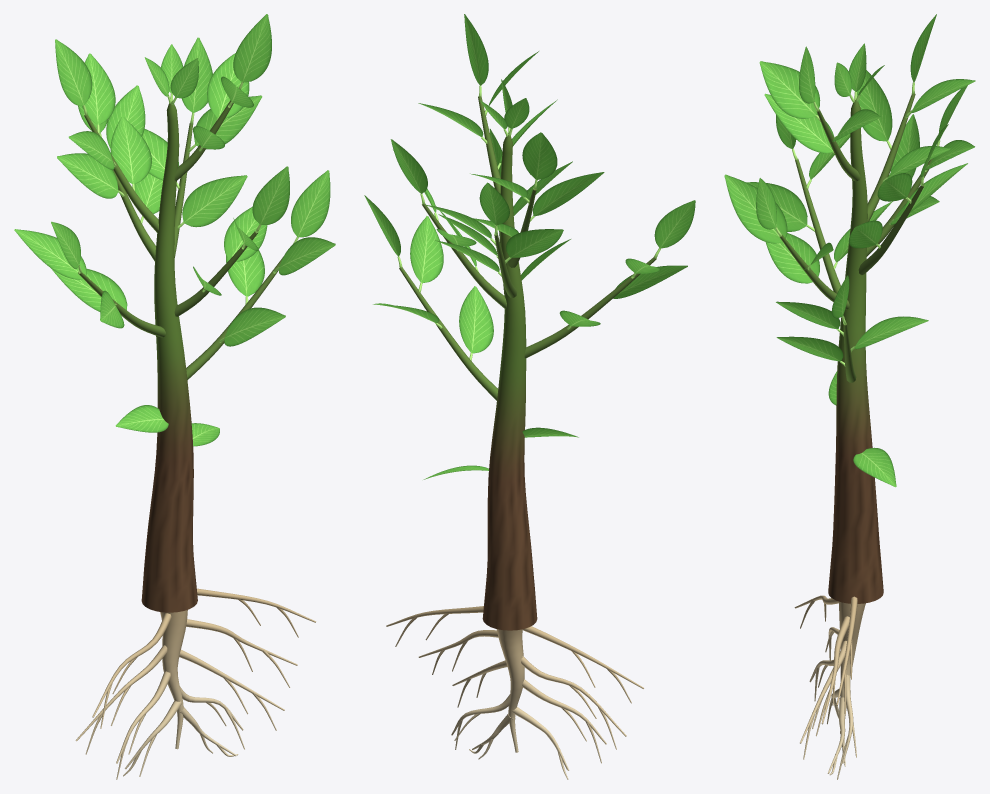
File: 01_plant.glb
3 views of the same model, side by side, from view 1: azimuth 30°, elevation 25°; view 2: azimuth 150°, elevation 25°; view 3: azimuth 270°, elevation 25° (orthographic). The views are drawn at different scales.
Visible parts, largest first — view 1: Stem_Main, Roots, Leaf_08, Leaf_12, Leaf_19, Leaf_04, Leaf_15, Leaf_25, Leaf_23, Leaf_06, Leaf_14, Leaf_01 (+22 smaller); view 2: Stem_Main, Roots, Leaf_01, Leaf_03, Leaf_07, Leaf_15, Leaf_13, Leaf_25, Branch_01, Branch_02, Leaf_19, Leaf_11 (+5 smaller); view 3: Stem_Main, Roots, Leaf_18, Leaf_22, Leaf_20, Leaf_13, Leaf_16, Leaf_Hero, Leaf_02, Leaf_Old, Leaf_01, Branch_02 (+22 smaller).
Boxes of the visible parts, box(x1,y1,x2,y2) form: Stem_Main: box(141, 101, 197, 612); Roots: box(75, 588, 316, 779); Leaf_08: box(177, 175, 247, 228); Leaf_12: box(110, 117, 151, 190); Leaf_19: box(233, 14, 271, 89); Leaf_04: box(291, 170, 330, 243); Leaf_15: box(55, 39, 92, 115); Leaf_25: box(57, 153, 124, 198); Leaf_23: box(252, 166, 289, 233); Leaf_06: box(14, 229, 86, 279); Leaf_14: box(82, 53, 115, 134); Leaf_01: box(219, 307, 285, 346); Stem_Main: box(482, 133, 537, 630); Roots: box(386, 606, 644, 779); Leaf_01: box(459, 286, 493, 360); Leaf_03: box(410, 216, 443, 292); Leaf_07: box(654, 200, 695, 258); Leaf_15: box(522, 132, 557, 189); Leaf_13: box(530, 172, 604, 221); Leaf_25: box(505, 229, 563, 263); Branch_01: box(399, 267, 498, 400); Branch_02: box(524, 257, 656, 358); Leaf_19: box(464, 14, 488, 96); Leaf_11: box(390, 139, 427, 204); Stem_Main: box(828, 100, 883, 603); Roots: box(794, 595, 865, 779); Leaf_18: box(759, 61, 820, 122); Leaf_22: box(724, 174, 787, 243); Leaf_20: box(765, 233, 819, 283); Leaf_13: box(856, 70, 892, 149); Leaf_16: box(764, 93, 834, 153); Leaf_Hero: box(746, 182, 815, 231); Leaf_02: box(850, 316, 928, 351); Leaf_Old: box(853, 447, 896, 487); Leaf_01: box(776, 336, 845, 366); Branch_02: box(795, 159, 840, 293).
Size of the model in its own units: 0.8651 by 1.99 by 0.6141.
Materials: 4 (1 with a texture image).
